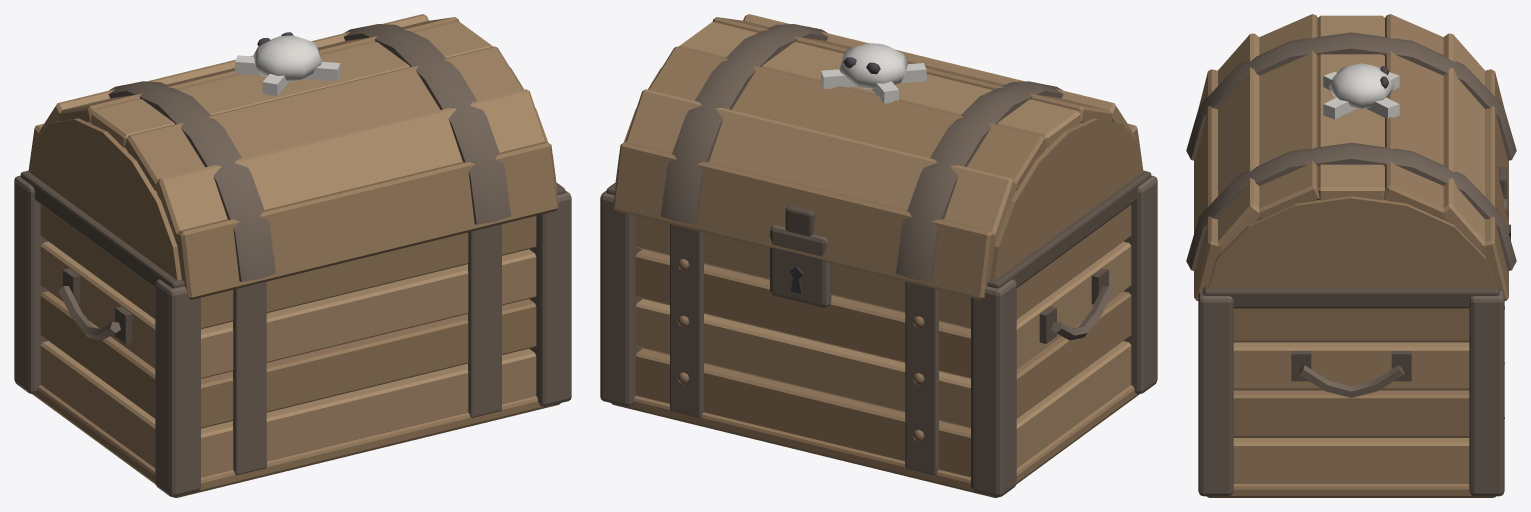
The model's file is chests.glb.
3 renders of one model, left to right at view 1: azimuth 30°, elevation 25°; view 2: azimuth 150°, elevation 25°; view 3: azimuth 270°, elevation 25°, orthographic. The views are drawn at different scales.
Parts seen in each view (by area): view 1: chest_0, chest_2; view 2: chest_0, chest_2; view 3: chest_0, chest_2.
Boxes of the visible parts, left/top/right/bottom form: chest_0: left=14, top=14, right=571, bottom=497; chest_2: left=235, top=32, right=340, bottom=95; chest_0: left=600, top=14, right=1157, bottom=497; chest_2: left=821, top=43, right=926, bottom=103; chest_0: left=1186, top=14, right=1516, bottom=497; chest_2: left=1323, top=63, right=1399, bottom=119.
Size of the model in its own units: 0.9217 by 0.7475 by 0.6587.
